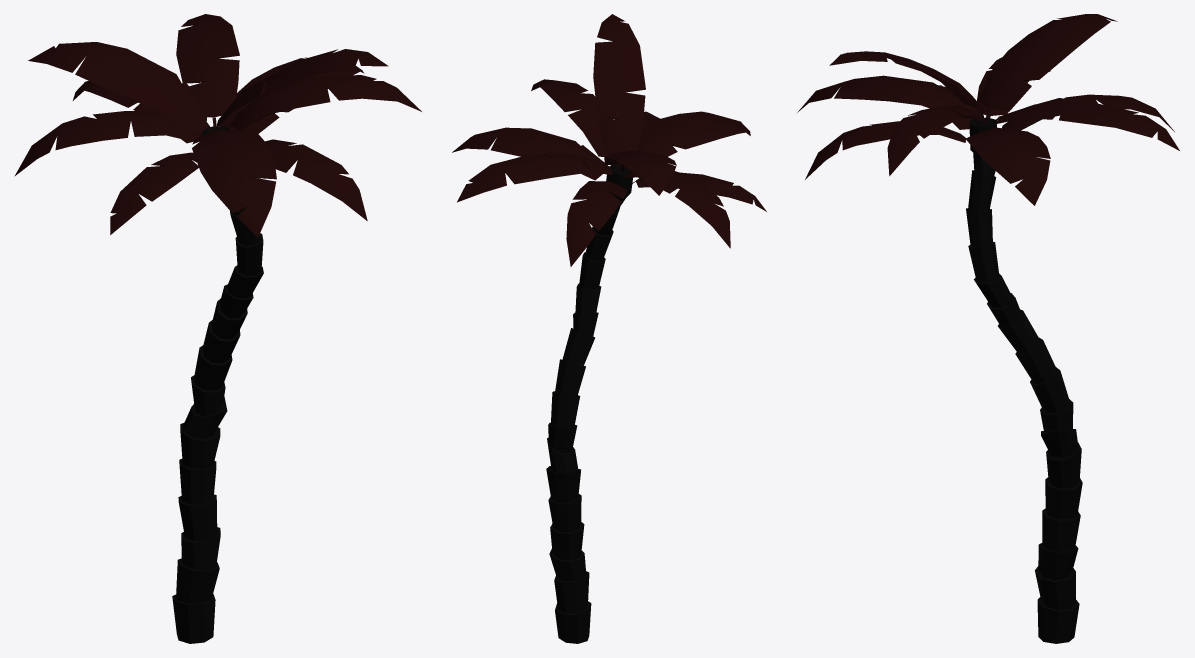
File: Tree 1.fbx
3 views of the same model, side by side, from view 1: azimuth 30°, elevation 25°; view 2: azimuth 150°, elevation 25°; view 3: azimuth 270°, elevation 25° (orthographic). The views are drawn at different scales.
Visible parts, largest first — view 1: PalmTree_05_LOD1; view 2: PalmTree_05_LOD1; view 3: PalmTree_05_LOD1.
Boxes of the visible parts, x1,y1,x2,y2 form: PalmTree_05_LOD1: (14, 14, 421, 643); PalmTree_05_LOD1: (452, 14, 766, 643); PalmTree_05_LOD1: (797, 14, 1179, 643).
Bounding box in the file's own units: 244 × 440 × 251.
